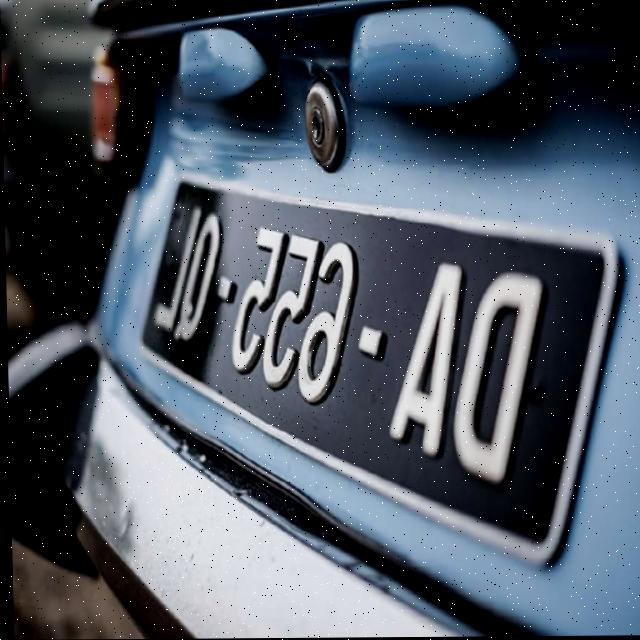plate: (133, 166, 637, 574)
